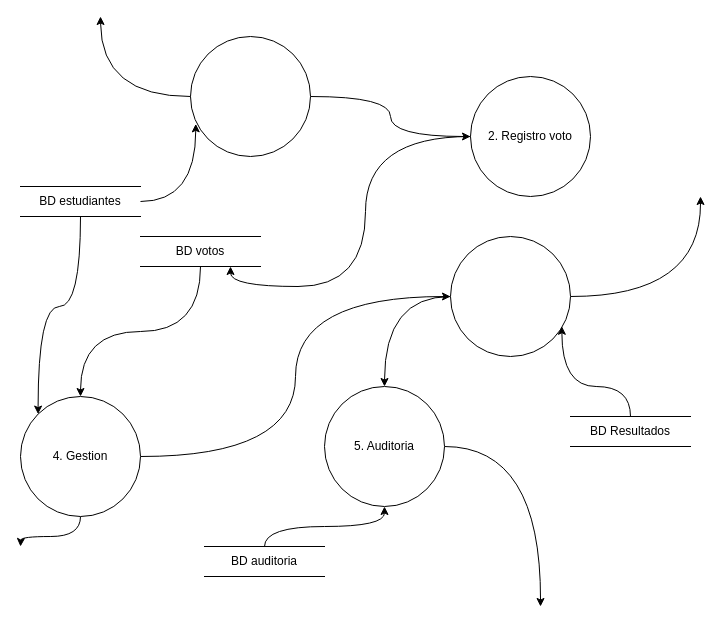
The diagram is 722 pixels wide and 623 high, and some of its shapes have lost their labels. The centre of each missing label's shape, as x and y in pixels:
1. Auntenticacion: (x=250, y=96)
3. Resultados: (x=510, y=296)
